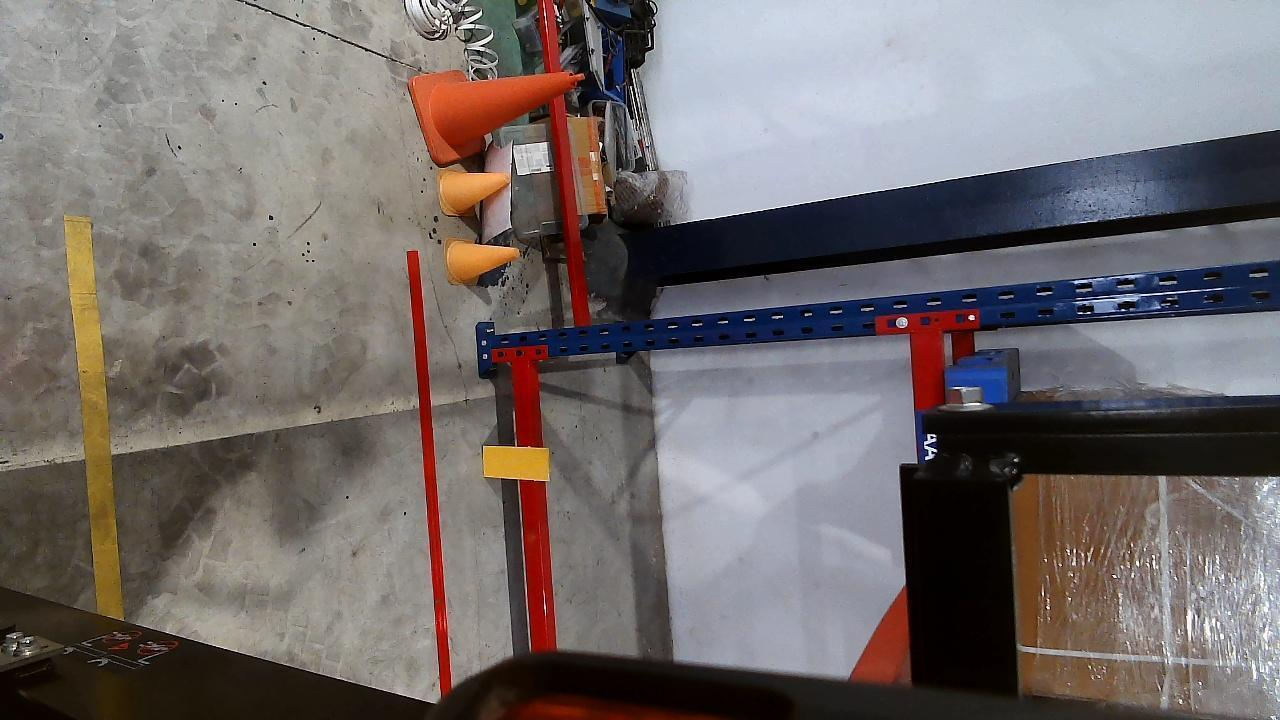red_line: (407, 251, 453, 680)
yellow_line: (59, 214, 122, 618)
